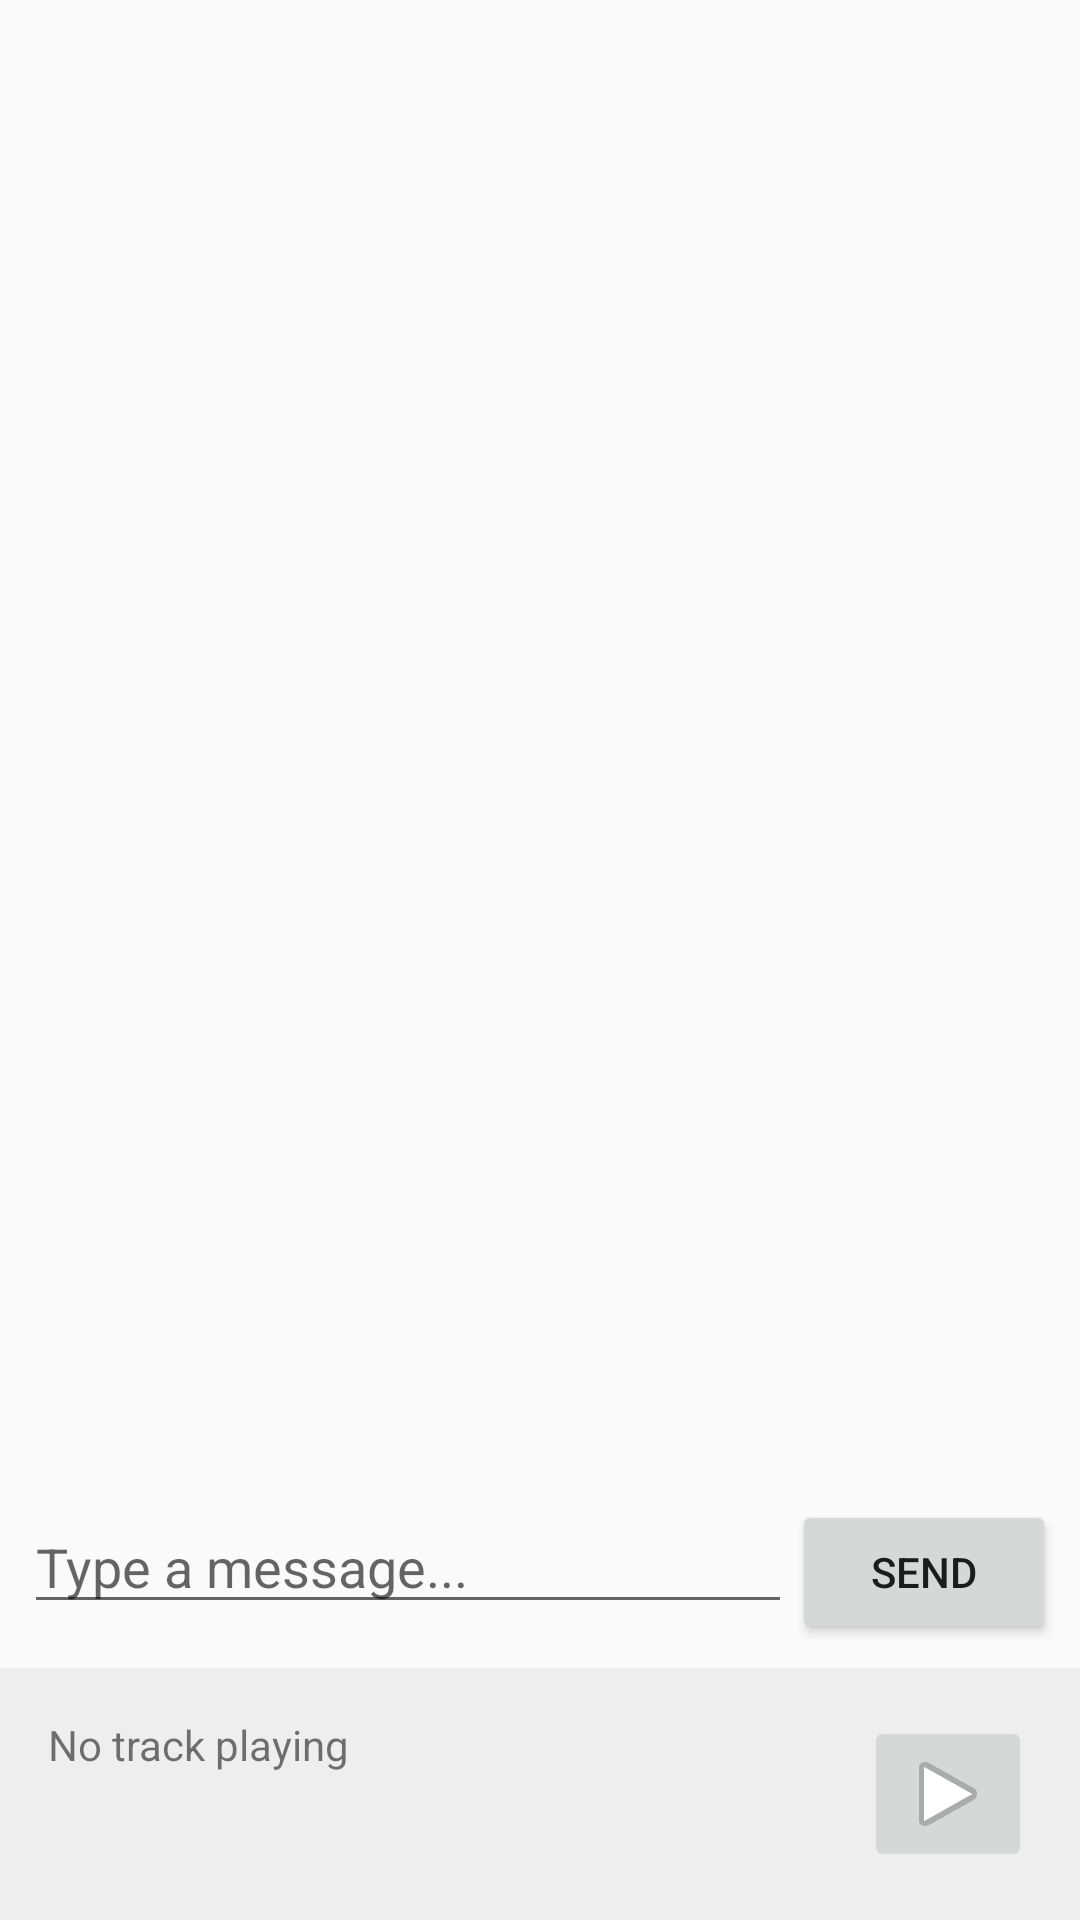

Locate icon controls on the screen. Image size 1080×1920, boxes as (x1,y1,x2,y2).
Play or Pause: (876,1734,1020,1854)
